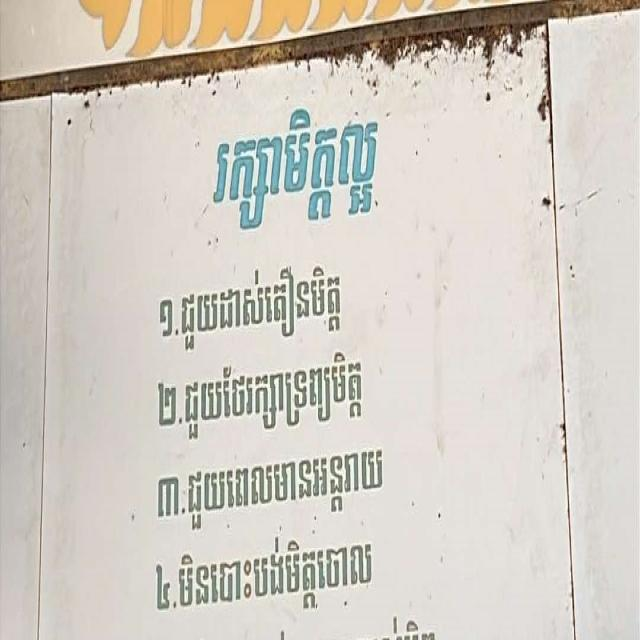1: (156, 437, 389, 536), (154, 343, 367, 449), (157, 261, 344, 356)
Yolov11kh: (151, 513, 377, 629), (206, 103, 383, 244)
